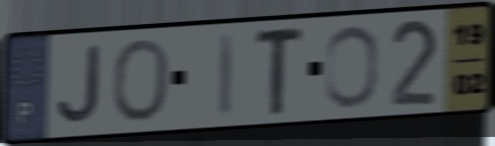2: (389, 16, 439, 107)
I: (216, 29, 236, 120)
J: (53, 41, 104, 127)
O: (109, 35, 173, 126), (322, 22, 381, 111)
T: (252, 23, 308, 120)
